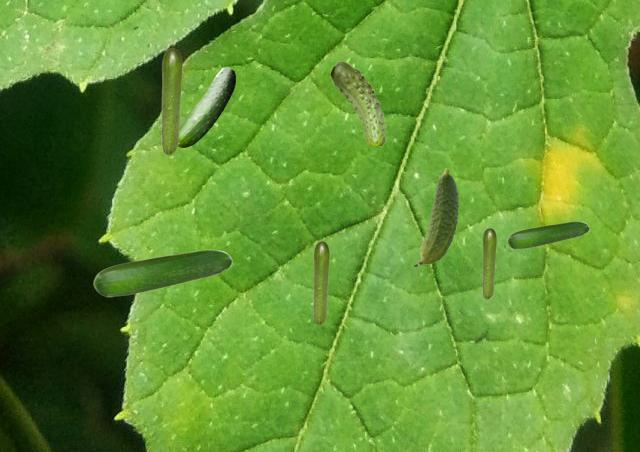cucumber: (93, 249, 231, 296), (330, 61, 385, 144), (178, 67, 234, 146), (414, 168, 458, 265), (507, 221, 588, 248), (161, 48, 181, 154), (313, 241, 328, 324), (482, 228, 495, 298)
